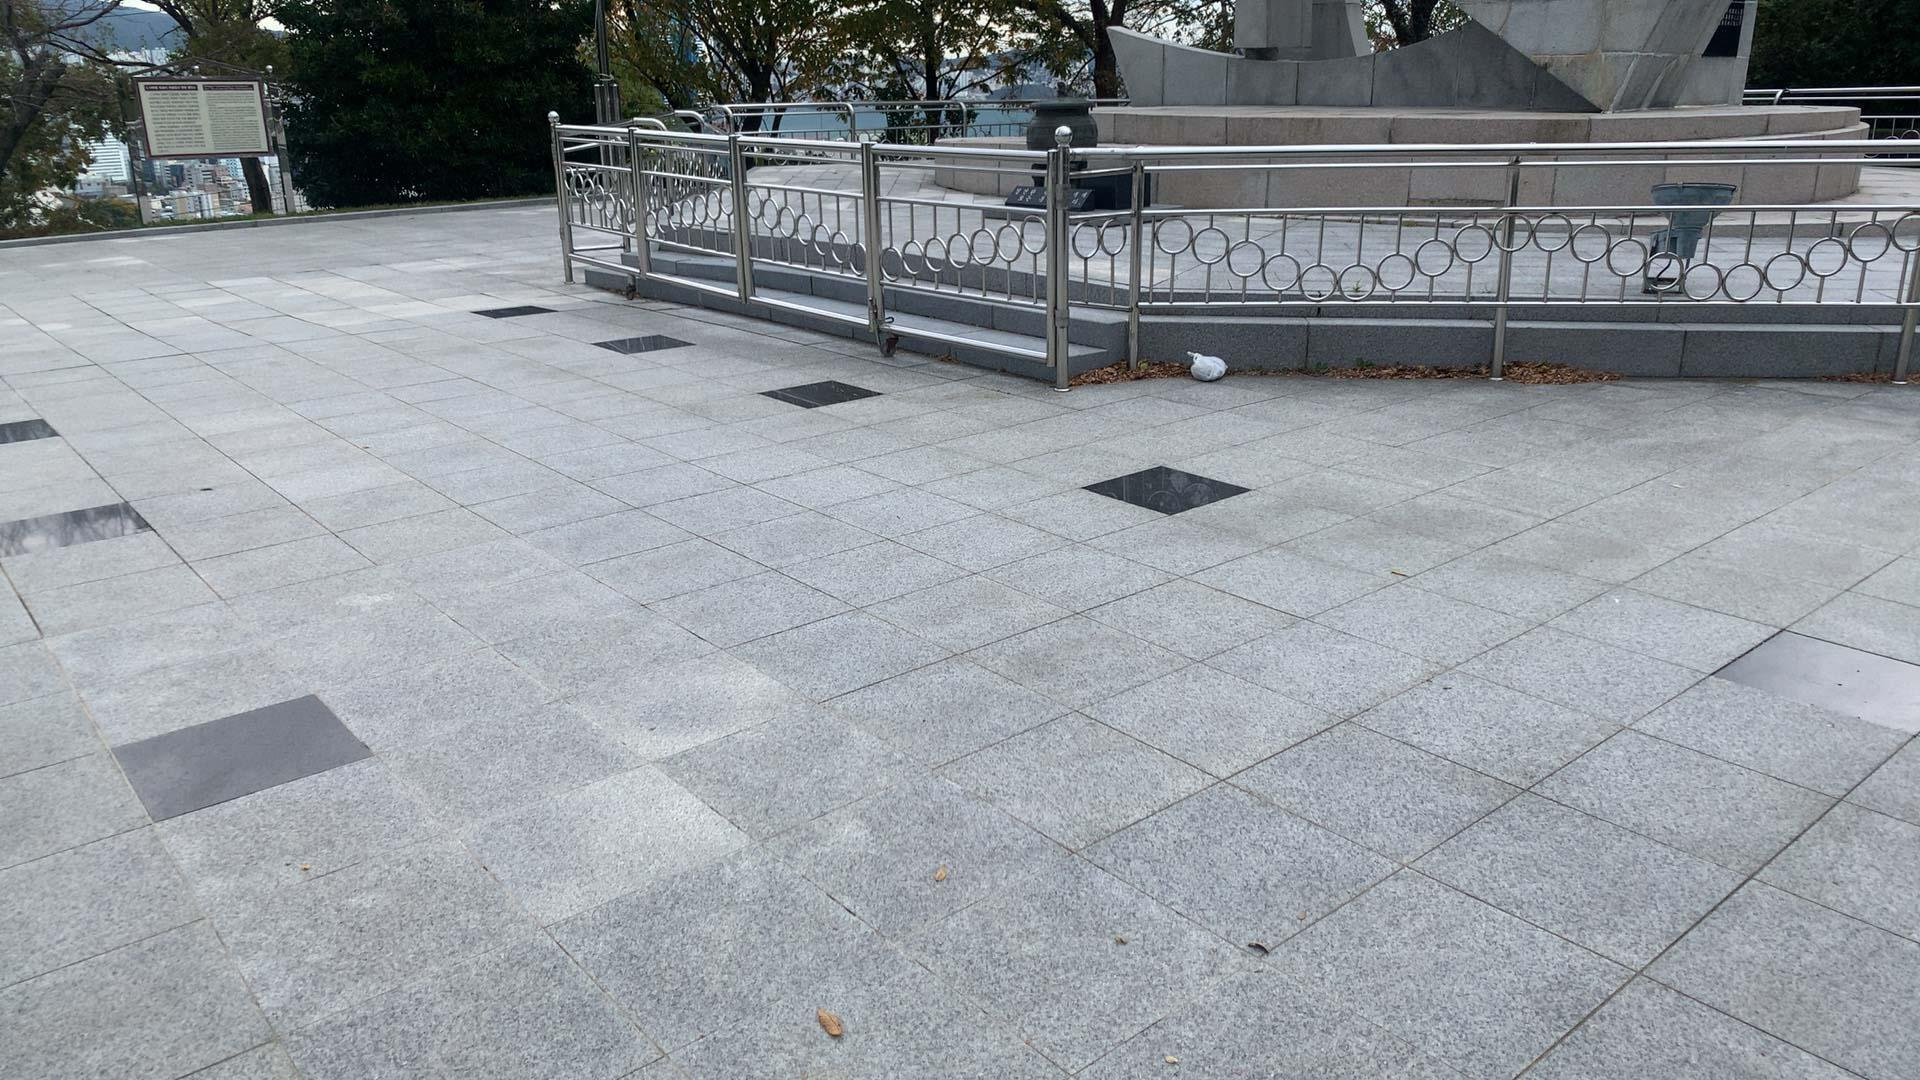white_bag: (1182, 343, 1230, 381)
